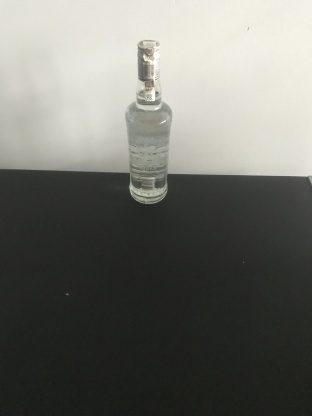nakretka: (135, 36, 163, 81)
